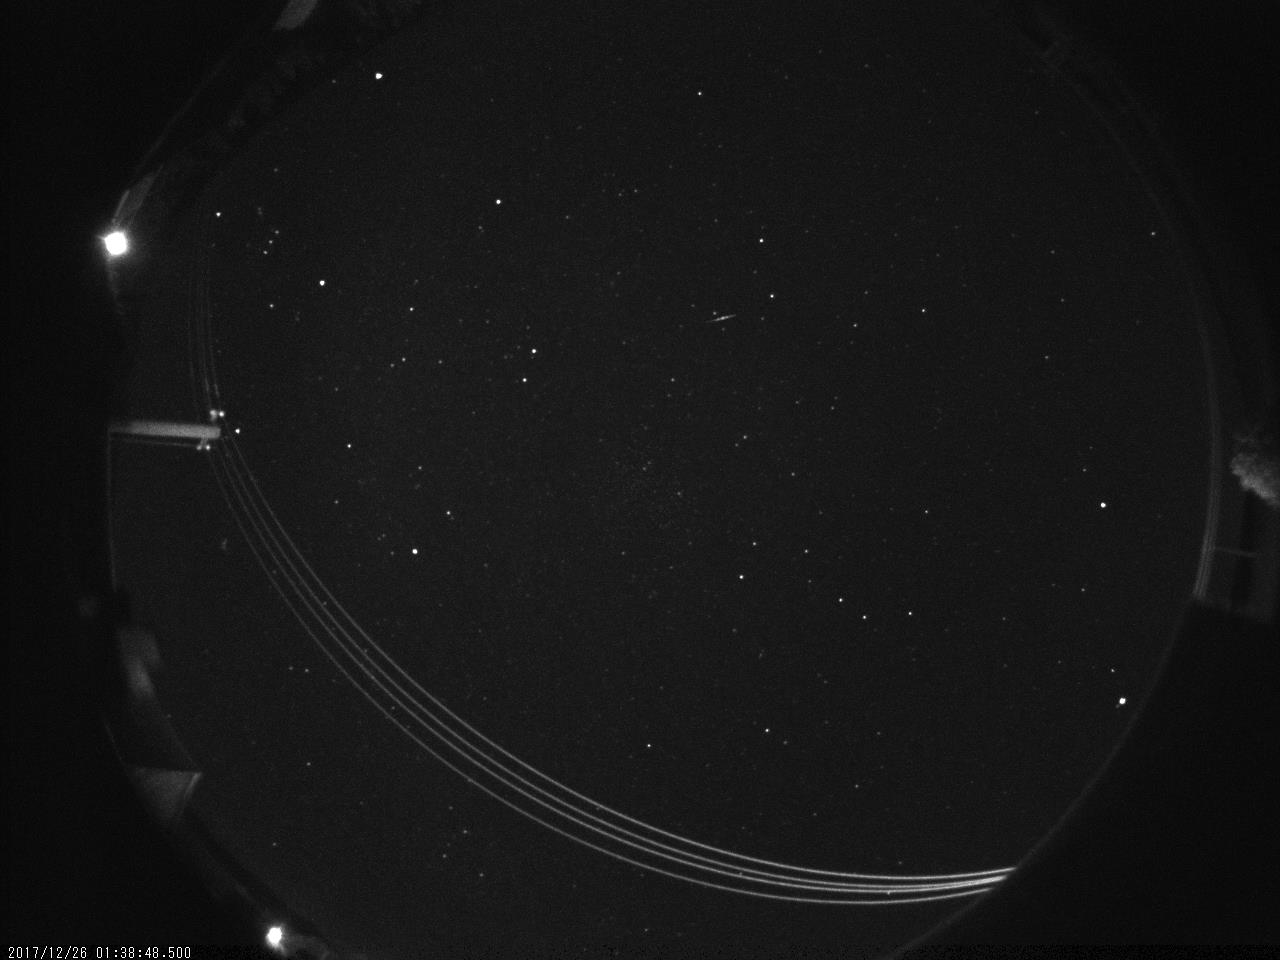meteor: (705, 312, 740, 334)
